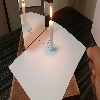fire: (50, 5, 53, 21)
